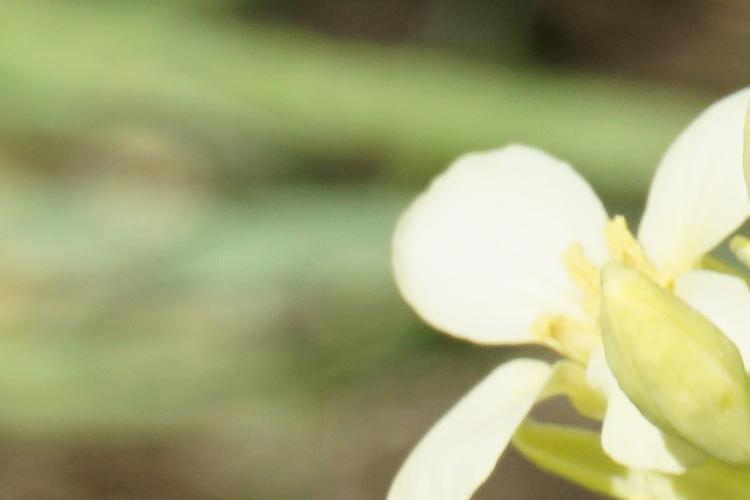bud: (596, 277, 740, 456)
white: (394, 122, 742, 480)
